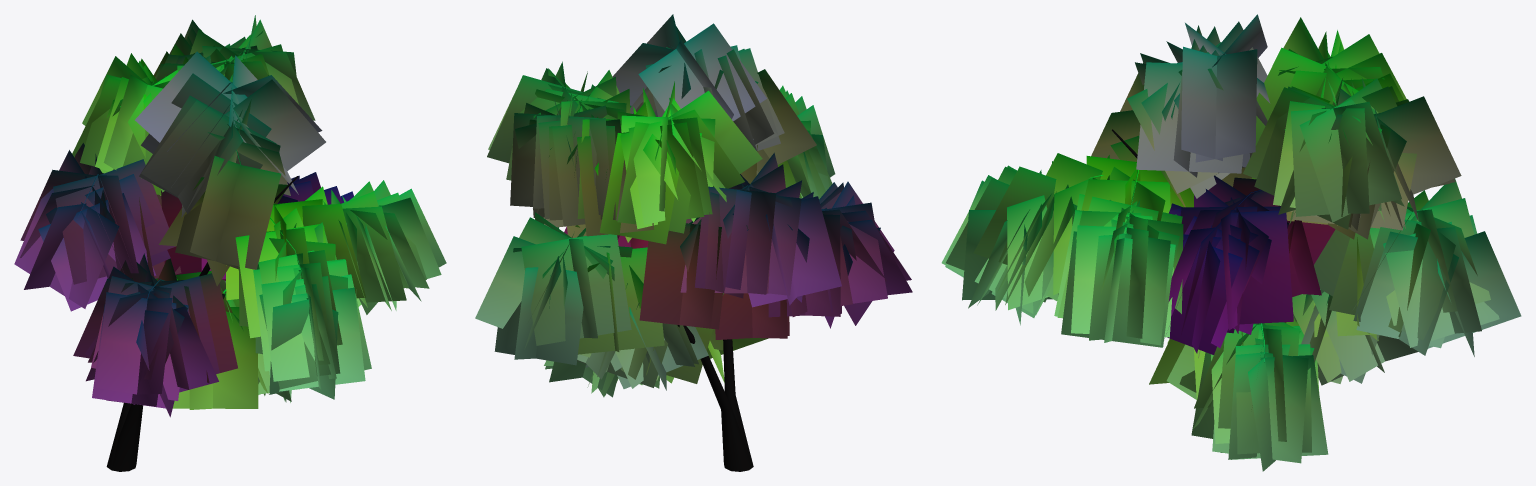
Rendered from URP_P13_Tree_6_LOD_2.fbx.
3 renders of one model, left to right at view 1: azimuth 30°, elevation 25°; view 2: azimuth 150°, elevation 25°; view 3: azimuth 270°, elevation 25°, orthographic. The views are drawn at different scales.
Parts seen in each view (by area): view 1: Tree_6_LOD_2; view 2: Tree_6_LOD_2; view 3: Tree_6_LOD_2.
Boxes of the visible parts, <box> form: Tree_6_LOD_2: <box>14,15,446,471</box>; Tree_6_LOD_2: <box>475,14,912,471</box>; Tree_6_LOD_2: <box>941,14,1521,471</box>.
Size of the model in its own units: 445 by 492 by 572.
